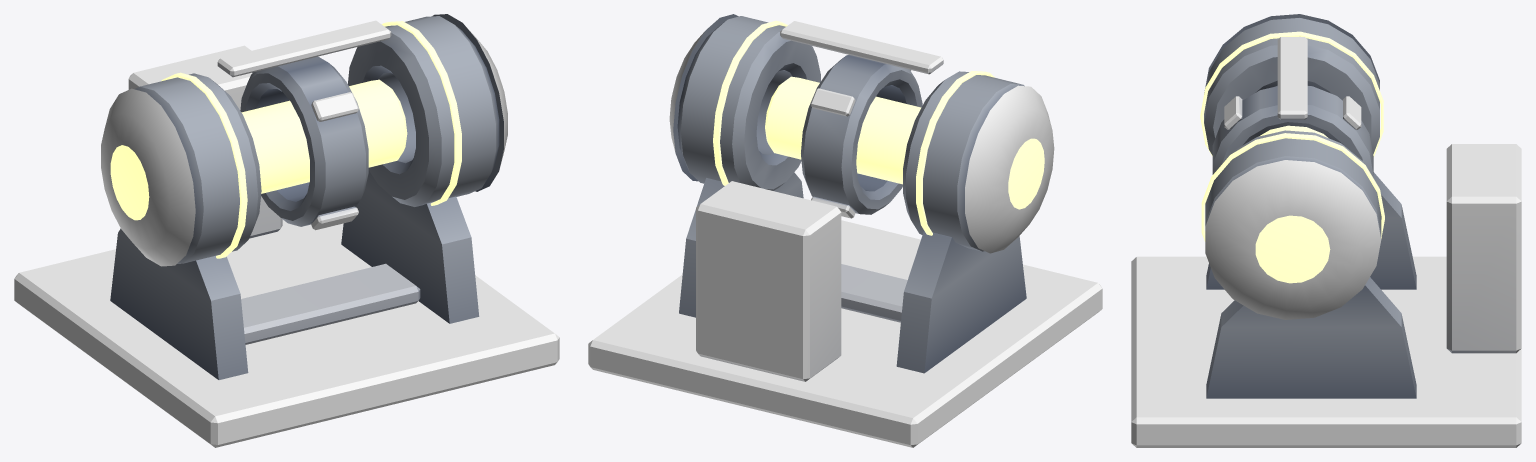
Rendered from R4X_Battery_LOD1.fbx.
3 renders of one model, left to right at view 1: azimuth 30°, elevation 25°; view 2: azimuth 150°, elevation 25°; view 3: azimuth 270°, elevation 25°, orthographic. The views are drawn at different scales.
Visible parts, largest first — view 1: R4X_Battery_LOD1; view 2: R4X_Battery_LOD1; view 3: R4X_Battery_LOD1.
Part boxes in pixels (left/top/right/bottom): R4X_Battery_LOD1: left=14, top=14, right=559, bottom=447; R4X_Battery_LOD1: left=588, top=14, right=1102, bottom=447; R4X_Battery_LOD1: left=1131, top=14, right=1521, bottom=447.
Size of the model in its own units: 0.52 by 0.432 by 0.52.
